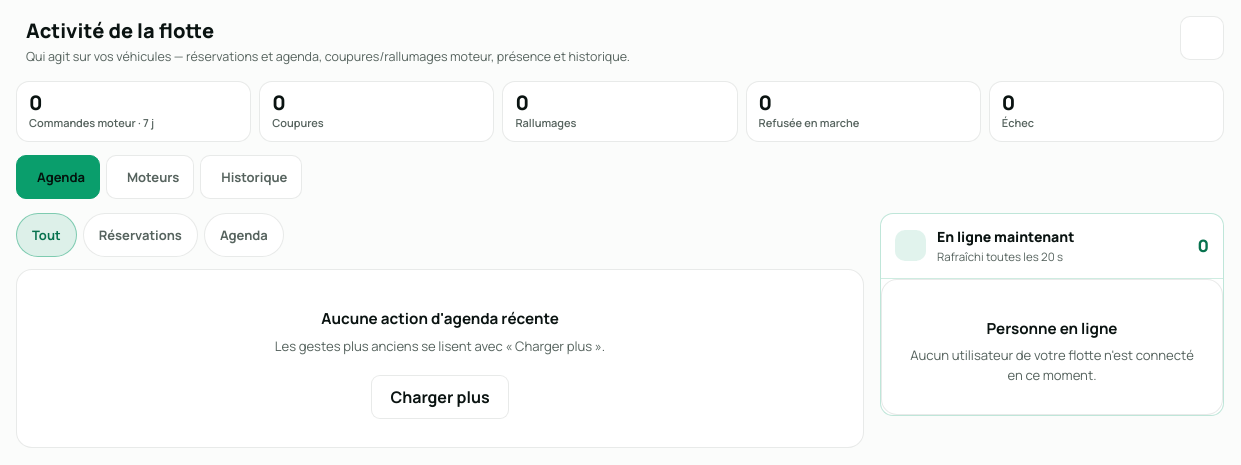
Test case: 29/09 — fil Agenda : IA de la société coupée, plus aucun passage de l’agent › 🔴 IA coupée, une page PLEINE de passages de l’agent : pas d’impasse — « Charger plus » dans l’état vide
The width and height of the screenshot is (1241, 465).
Click the button with class "fa-more" at {"x": 440, "y": 397}, box [371,375,509,419]
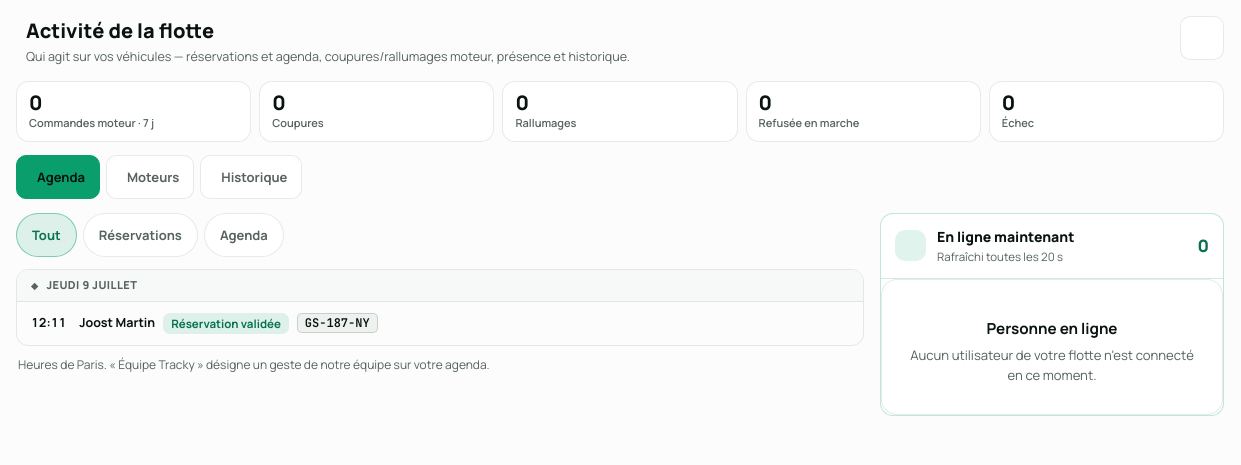
Expected: the button with class "fa-more" is gone
